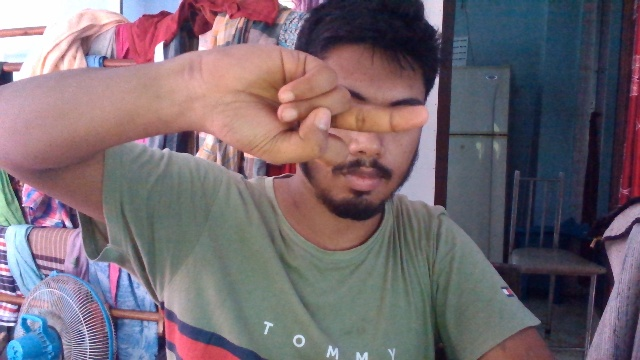fucku: (197, 31, 432, 179)
